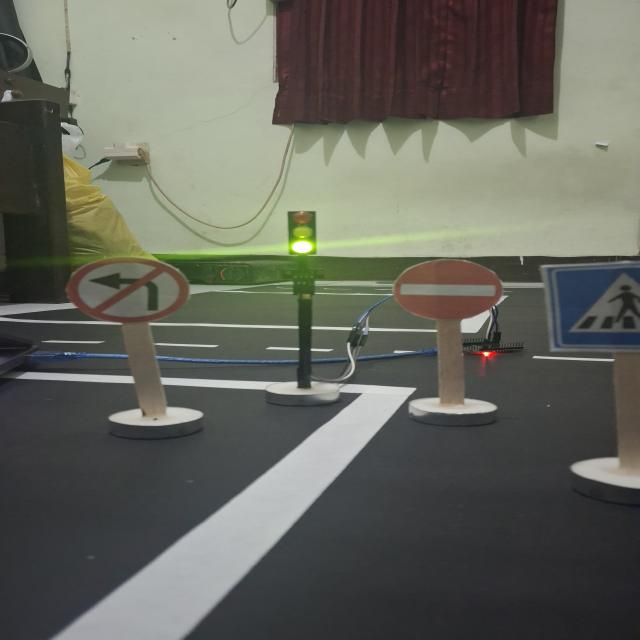Dilarang Belok Kiri: (68, 256, 190, 323)
Dilarang Masuk: (394, 259, 504, 320)
Lampu Hijau: (285, 209, 319, 257)
Rambu Penyebrangan: (551, 265, 640, 349)
